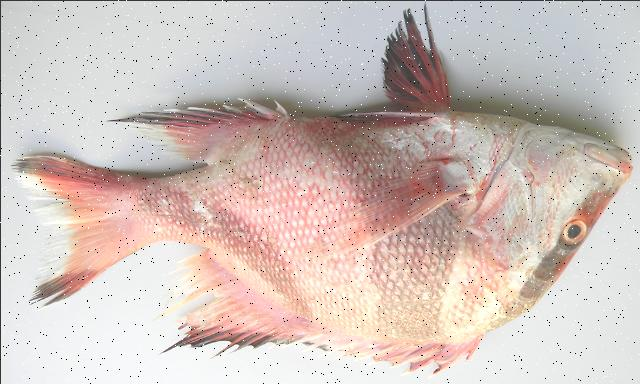Mulut: (552, 104, 640, 194)
Sirip Anal: (87, 82, 299, 172)
Sirip Dada: (306, 146, 484, 264)
Sirip Ekor: (2, 124, 146, 320)
Sirip Perut: (349, 0, 466, 133)
Sirip Punggung: (154, 238, 490, 378)
